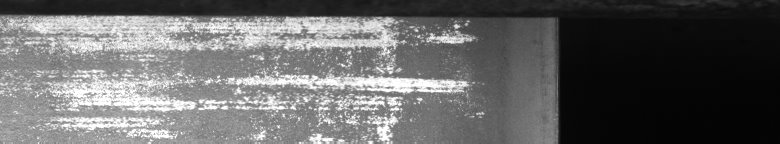kb: (4, 8, 548, 136)
